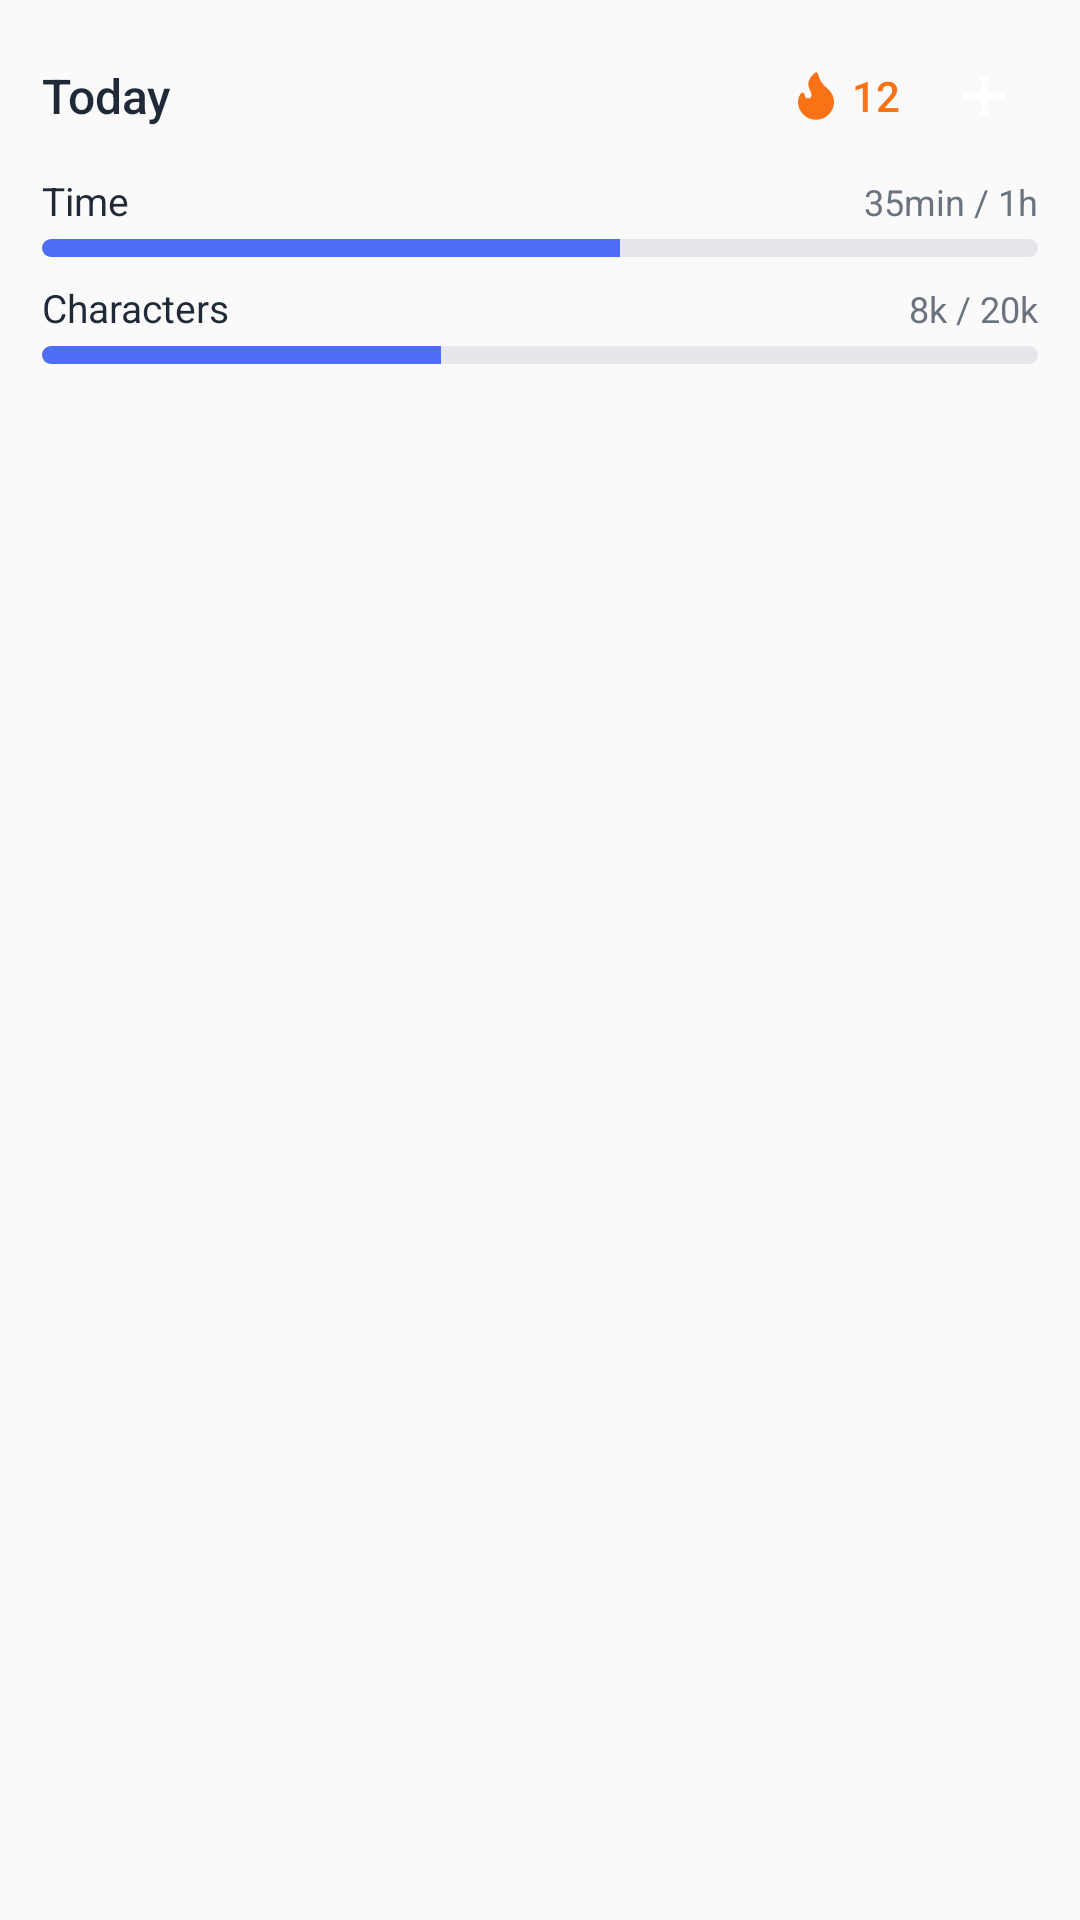

Where icons sit on this 1080x1920 app screen, as detection(x1, y1, x2, y2):
widget flame: detection(798, 72, 834, 120)
